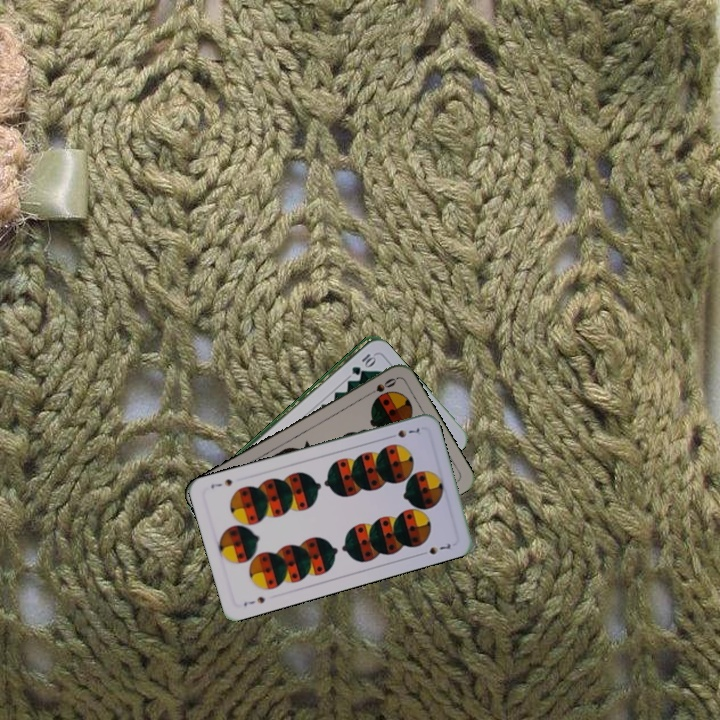G10: (347, 349, 377, 377)
S7: (384, 424, 422, 441), (240, 592, 267, 609)
SO: (362, 374, 399, 399)
